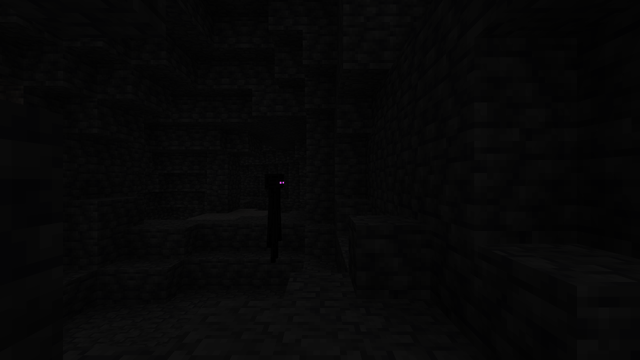endermens: (263, 171, 284, 261)
